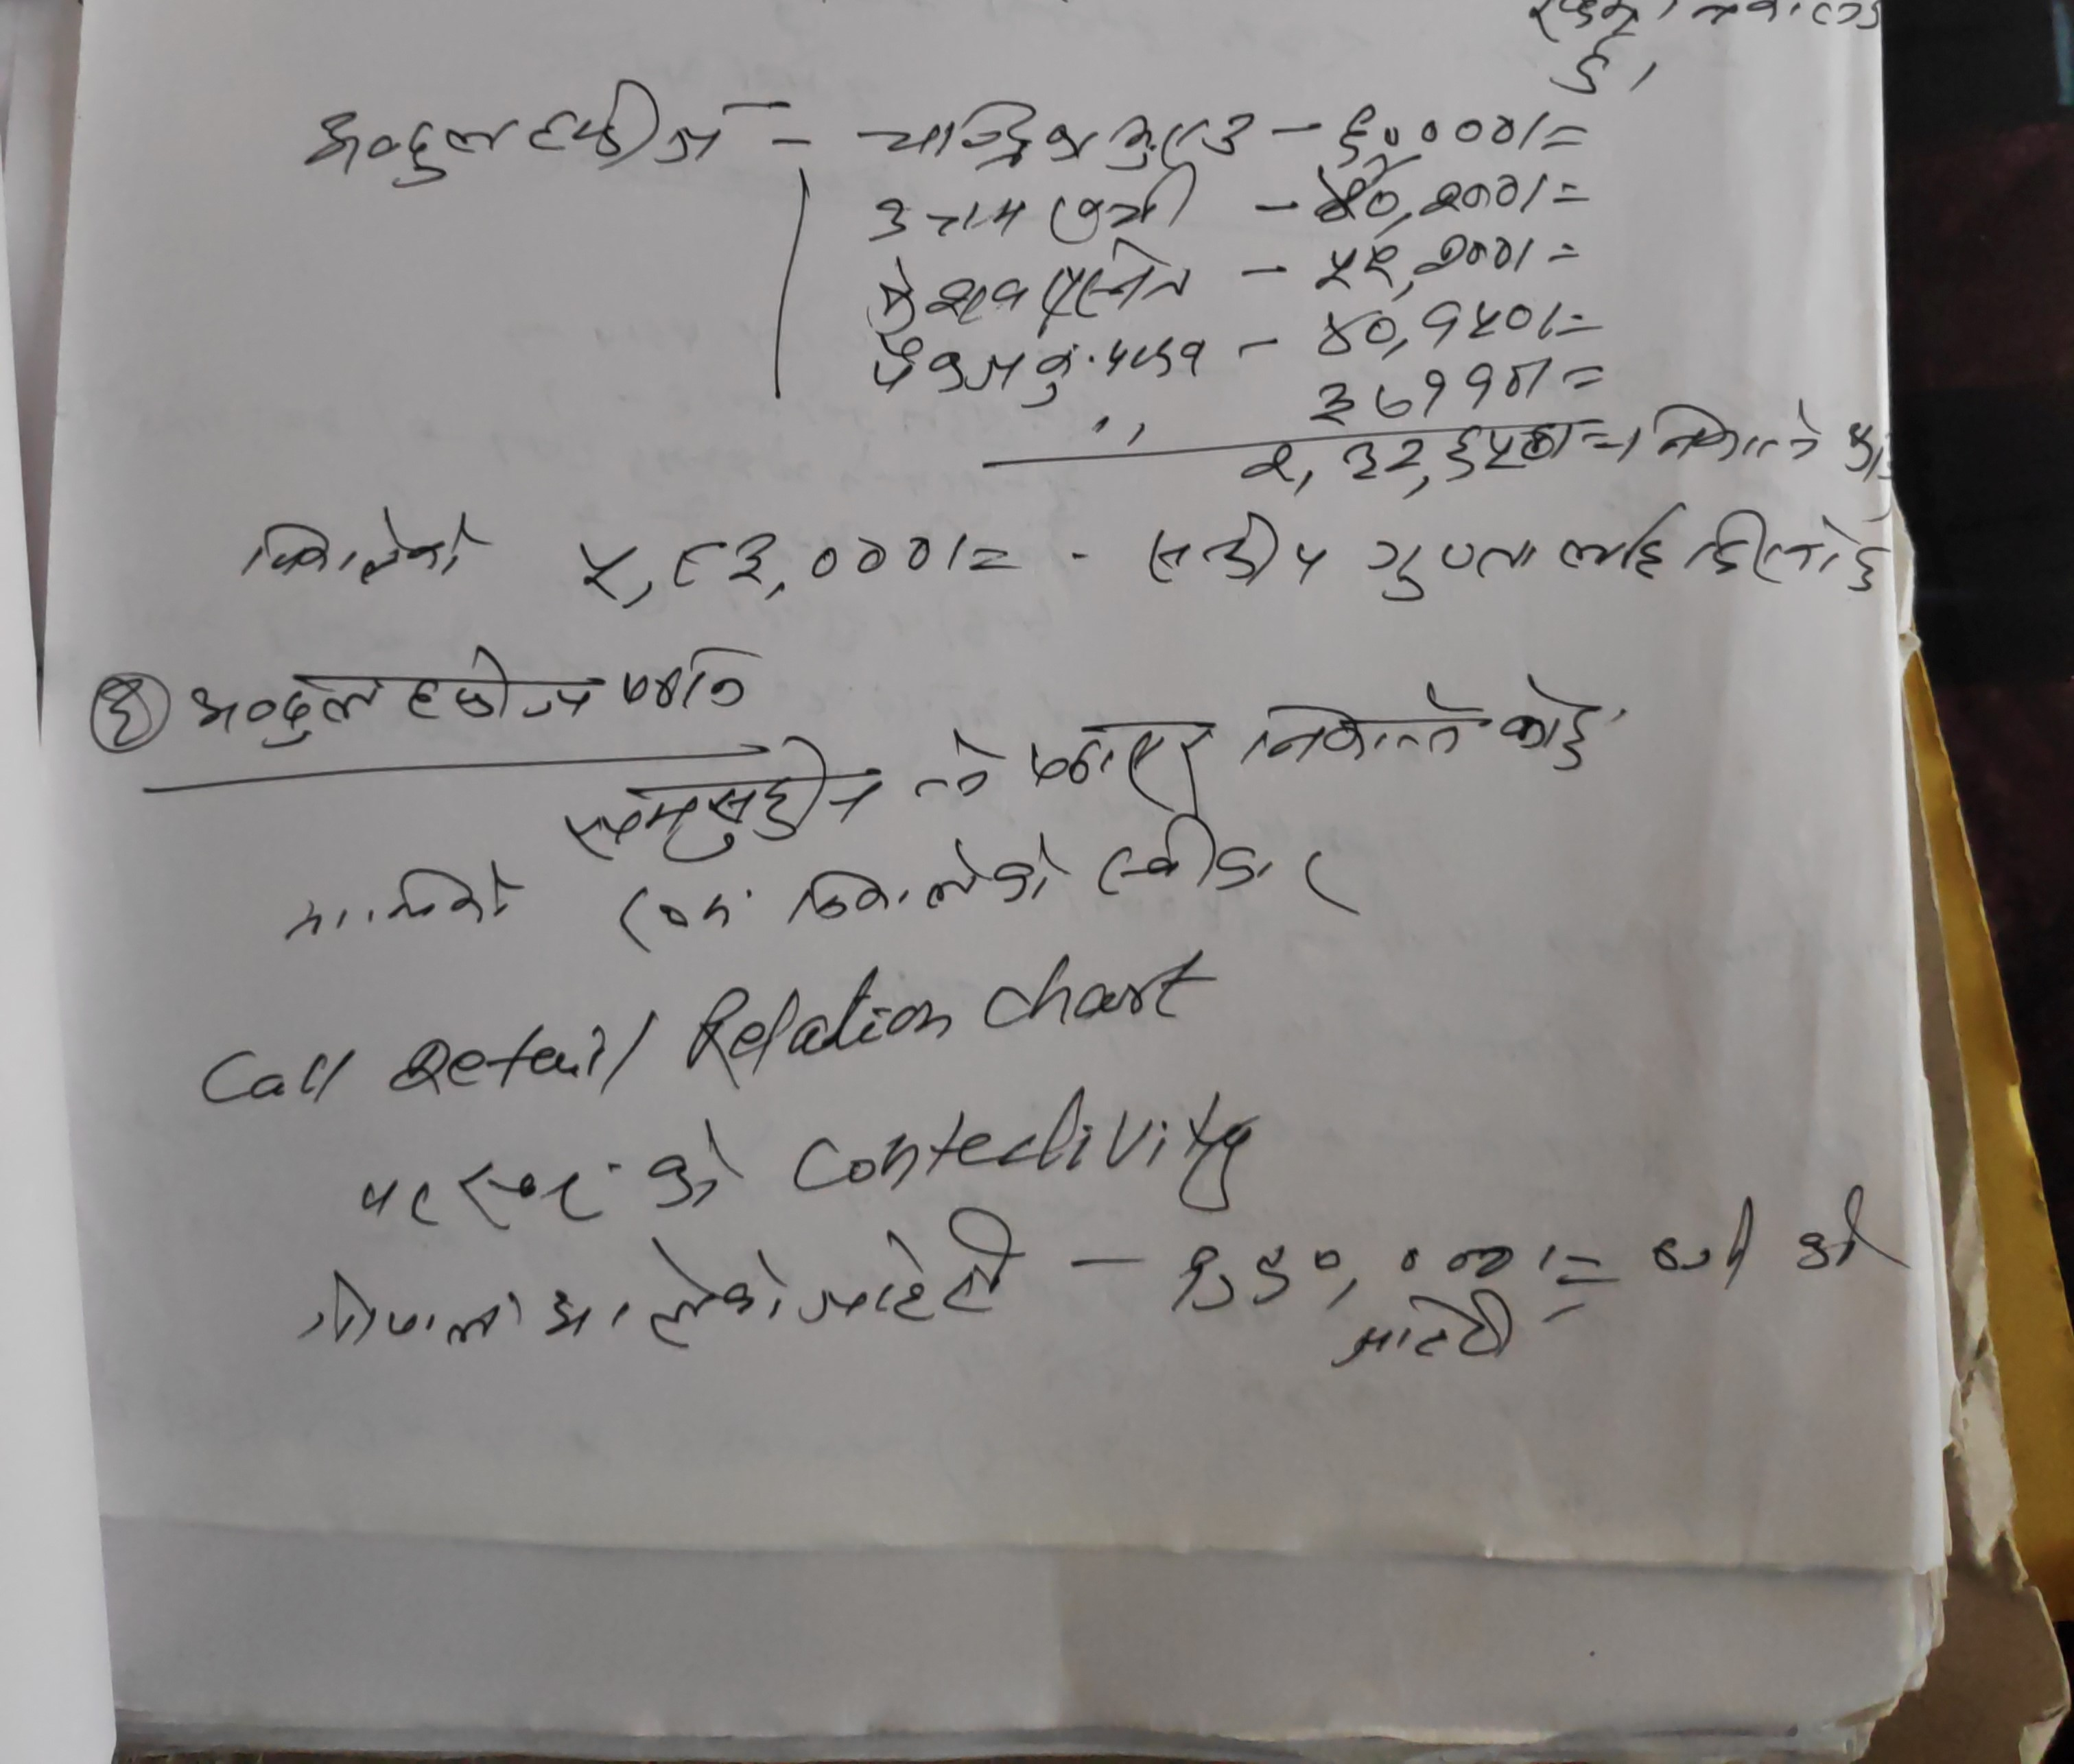text: (637, 1202, 1026, 1351), (298, 70, 756, 191), (352, 1116, 737, 1237), (180, 639, 595, 749), (1360, 485, 1678, 611), (560, 738, 882, 861), (565, 516, 928, 607), (303, 1267, 639, 1356), (777, 835, 1073, 934), (1094, 821, 1381, 919), (1162, 1227, 1521, 1297), (1236, 416, 1563, 490), (229, 506, 488, 590), (1017, 695, 1213, 803), (1236, 681, 1470, 770), (270, 866, 518, 945), (1696, 500, 1887, 602), (856, 94, 1097, 173), (866, 329, 1080, 411), (1139, 509, 1332, 600), (1325, 1281, 1517, 1372), (1311, 287, 1537, 359), (1622, 394, 1827, 472), (858, 243, 1024, 338), (1302, 359, 1526, 429), (1036, 240, 1197, 329), (1314, 224, 1514, 290), (1489, 674, 1612, 780), (1311, 164, 1528, 224), (1048, 164, 1204, 247), (1335, 100, 1519, 163), (859, 180, 1027, 247), (1103, 100, 1262, 164)
